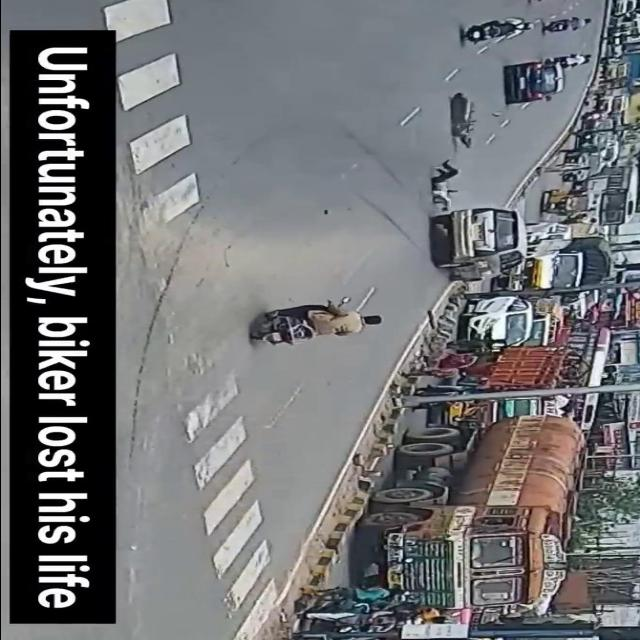accident: (419, 165, 531, 287), (435, 90, 500, 150)
non_accident: (293, 410, 591, 640), (414, 294, 618, 410), (556, 0, 640, 205), (488, 204, 624, 290)
